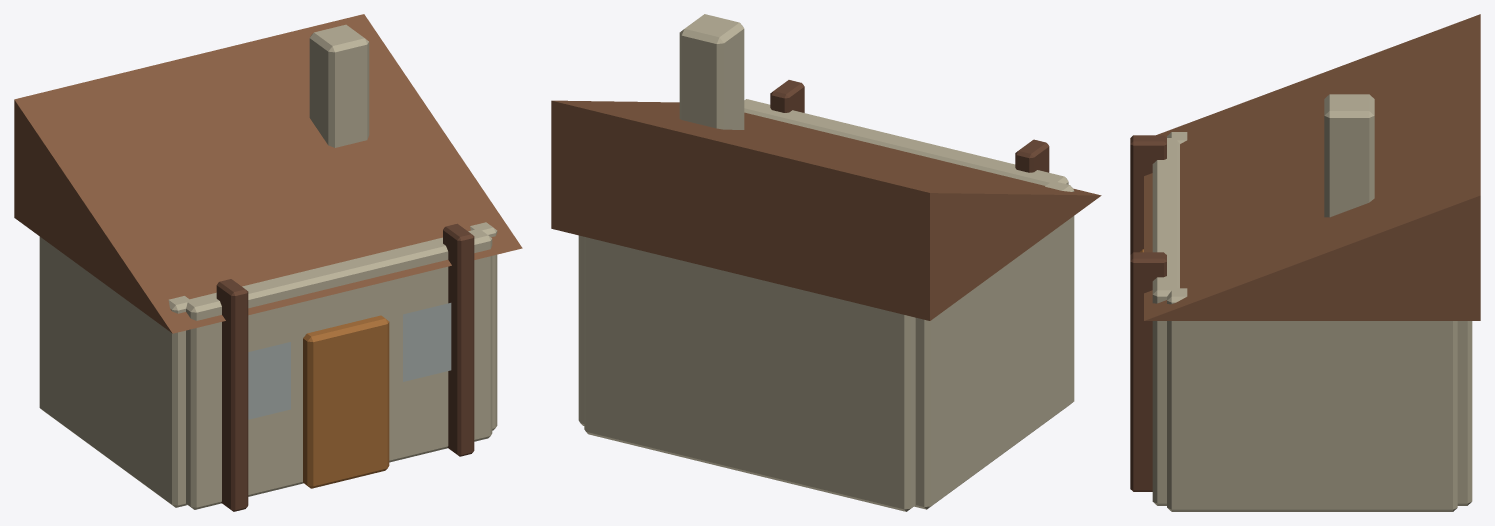
The model's file is cottage.rustic.glb.
3 views of the same model, side by side, from view 1: azimuth 30°, elevation 25°; view 2: azimuth 150°, elevation 25°; view 3: azimuth 270°, elevation 25° (orthographic). The views are drawn at different scales.
Parts seen in each view (by area): view 1: roof.main, wall.front, wall.left, door.front, chimney, timber.left, timber.right, window.right, window.left, wall.right; view 2: roof.main, wall.back, wall.left, chimney, wall.front, wall.right, timber.left, timber.right; view 3: roof.main, wall.right, wall.front, chimney, timber.right, wall.back, timber.left.
Boxes of the visible parts, box(x1,y1,x2,y2) form: roof.main: box(14, 14, 522, 333); wall.front: box(186, 228, 492, 509); wall.left: box(39, 236, 191, 507); door.front: box(303, 315, 389, 488); chimney: box(309, 24, 369, 147); timber.left: box(216, 279, 248, 511); timber.right: box(443, 223, 474, 456); window.right: box(403, 303, 451, 381); window.left: box(248, 342, 290, 419); wall.right: box(470, 222, 497, 430); roof.main: box(551, 100, 1101, 320); wall.back: box(584, 237, 915, 511); wall.left: box(914, 181, 1074, 509); chimney: box(679, 14, 744, 129); wall.front: box(744, 99, 1068, 185); wall.right: box(578, 235, 584, 425); timber.left: box(1015, 139, 1049, 172); timber.right: box(770, 80, 804, 112); roof.main: box(1144, 14, 1480, 320); wall.right: box(1167, 288, 1457, 511); wall.front: box(1152, 138, 1179, 505); chimney: box(1324, 94, 1374, 217); timber.right: box(1130, 252, 1166, 491); wall.back: box(1457, 321, 1472, 505); timber.left: box(1130, 135, 1166, 254).
Size of the model in its own units: 3.25 by 3.12 by 2.65.
